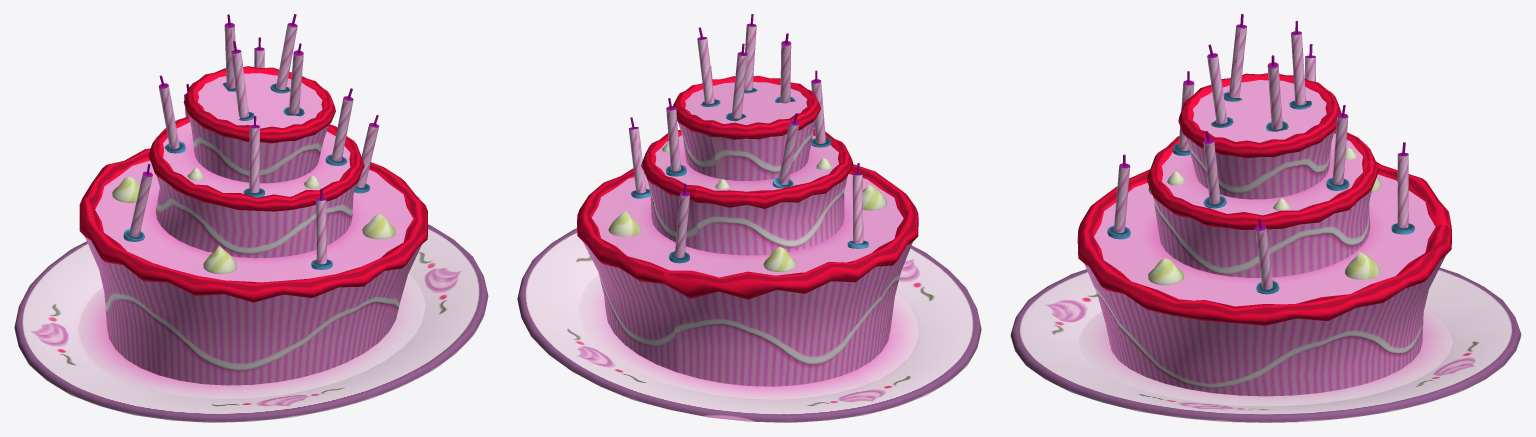
The model's file is cake.obj.
3 renders of one model, left to right at view 1: azimuth 30°, elevation 25°; view 2: azimuth 150°, elevation 25°; view 3: azimuth 270°, elevation 25°, orthographic. The views are drawn at different scales.
Visible parts, largest first — view 1: cake; view 2: cake; view 3: cake.
Boxes of the visible parts, bbox=[...] form: cake: bbox=[14, 14, 488, 422]; cake: bbox=[517, 14, 981, 422]; cake: bbox=[1010, 14, 1521, 422].
Bounding box in the file's own units: 0.2991 × 0.22 × 0.3015.
Materials: 1 (1 with a texture image).
